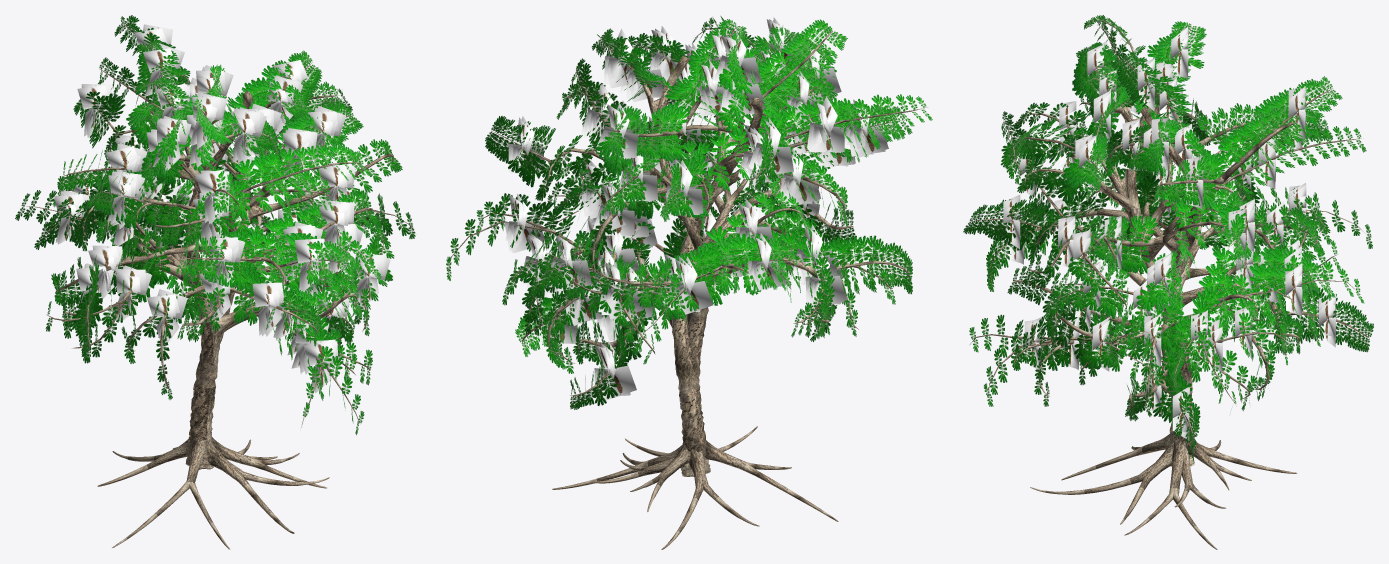
File: GuachaAr.glb
The picture shows the model from 3 angles, left to right: view 1: azimuth 30°, elevation 25°; view 2: azimuth 150°, elevation 25°; view 3: azimuth 270°, elevation 25°; orthographic projection. The views are drawn at different scales.
Visible parts, largest first — view 1: tree; view 2: tree; view 3: tree.
Part boxes in pixels (left/top/right/bottom): tree: left=15, top=15, right=415, bottom=549; tree: left=446, top=16, right=932, bottom=549; tree: left=963, top=15, right=1373, bottom=549.
Bounding box in the file's own units: 3.16 × 3.58 × 2.91.
Materials: 3 (3 with a texture image).
